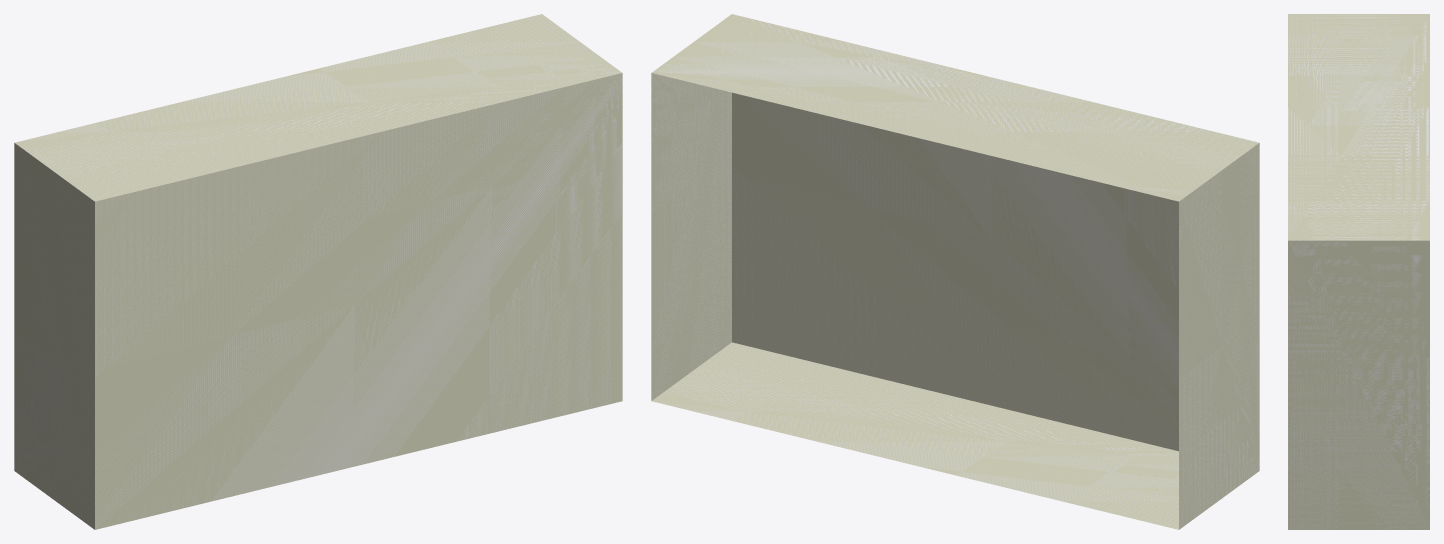
Rendered from original-79.obj.
3 views of the same model, side by side, from view 1: azimuth 30°, elevation 25°; view 2: azimuth 150°, elevation 25°; view 3: azimuth 270°, elevation 25° (orthographic). The views are drawn at different scales.
Parts seen in each view (by area): view 1: mesh2/mesh2-geometry/material_4/component_38#mesh2-geometry; view 2: mesh2/mesh2-geometry/material_4/component_38#mesh2-geometry; view 3: mesh2/mesh2-geometry/material_4/component_38#mesh2-geometry.
Boxes of the visible parts, x1,y1,x2,y2 form: mesh2/mesh2-geometry/material_4/component_38#mesh2-geometry: [14, 14, 622, 529]; mesh2/mesh2-geometry/material_4/component_38#mesh2-geometry: [651, 14, 1259, 529]; mesh2/mesh2-geometry/material_4/component_38#mesh2-geometry: [1288, 14, 1429, 529].
Bounding box in the file's own units: 0.0251 × 0.0149 × 0.00665.
